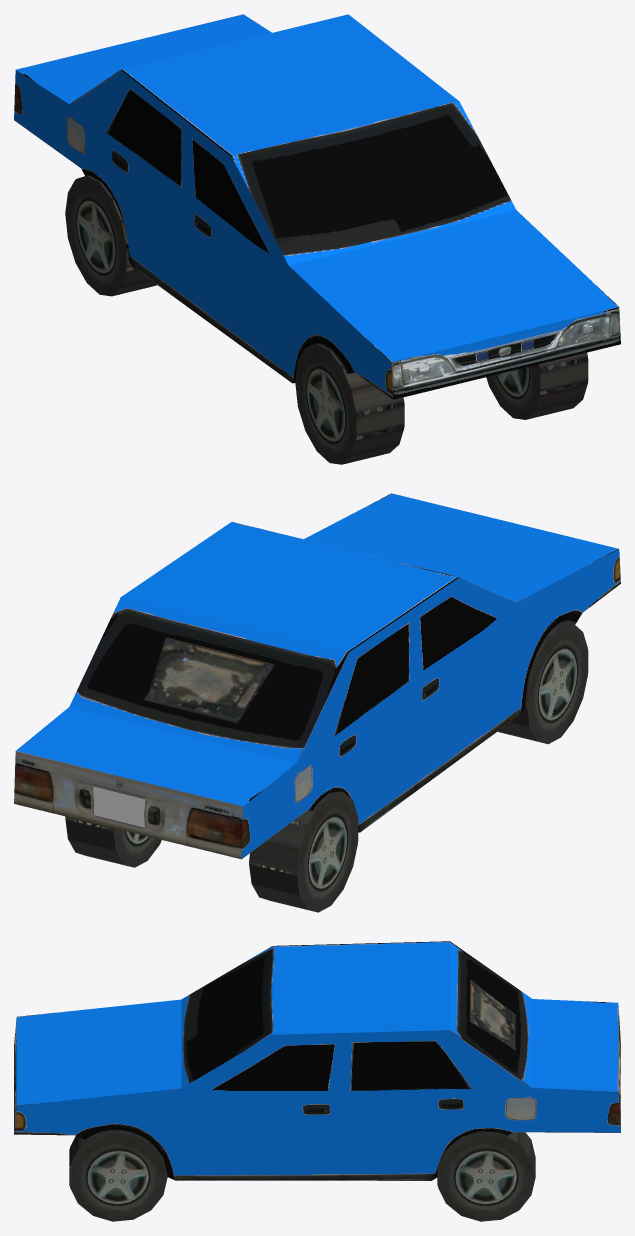
File: car2.fbx
3 views of the same model, one above another, from view 1: azimuth 30°, elevation 25°; view 2: azimuth 150°, elevation 25°; view 3: azimuth 270°, elevation 25° (orthographic). The views are drawn at different scales.
Parts seen in each view (by area): view 1: body, wheel2, wheel2.001, wheel1; view 2: body, wheel2.001, wheel2, wheel1.001; view 3: body, wheel1.001, wheel1.
Boxes of the visible parts, x1=… form: body: x1=14, y1=14, x2=620, y2=399; wheel2: x1=295, y1=343, x2=404, y2=464; wheel2.001: x1=65, y1=175, x2=157, y2=296; wheel1: x1=486, y1=352, x2=588, y2=419; body: x1=14, y1=493, x2=620, y2=859; wheel2.001: x1=249, y1=791, x2=358, y2=912; wheel2: x1=498, y1=623, x2=588, y2=744; wheel1.001: x1=65, y1=816, x2=161, y2=867; body: x1=14, y1=941, x2=620, y2=1180; wheel1.001: x1=437, y1=1131, x2=535, y2=1221; wheel1: x1=69, y1=1131, x2=167, y2=1221.
Size of the model in its own units: 184 by 181 by 522.
